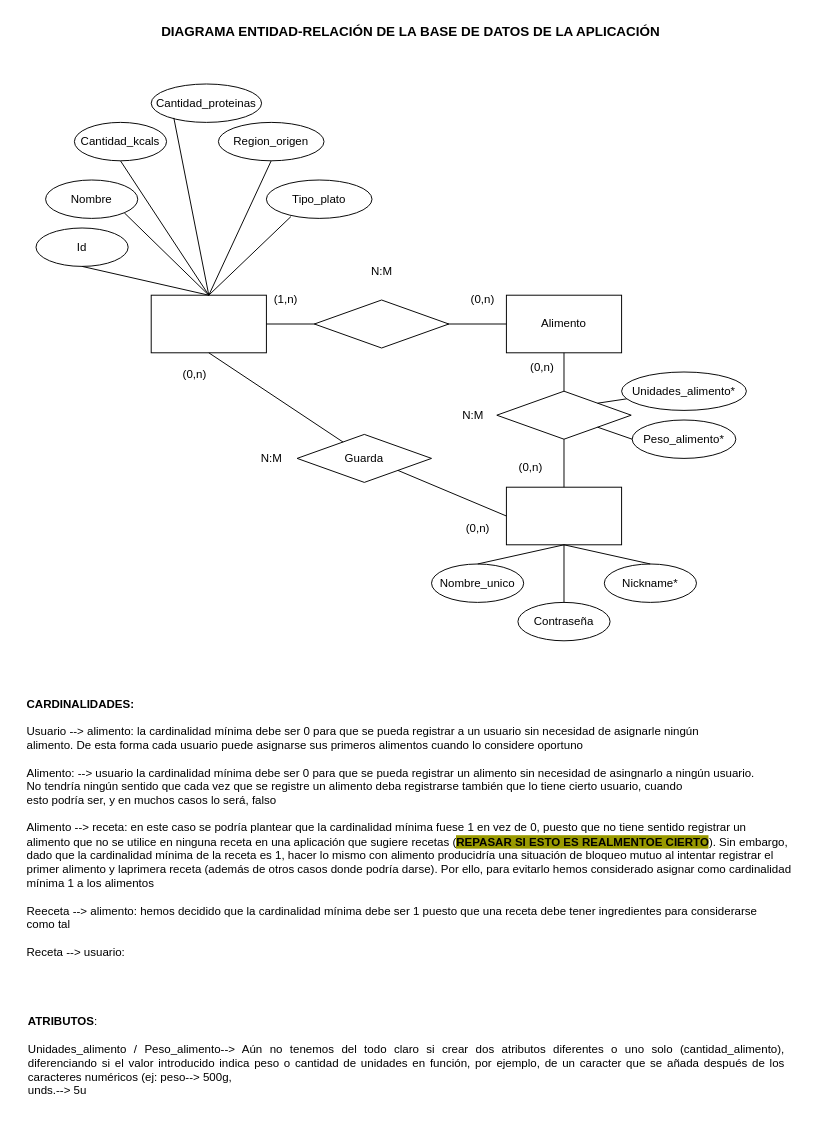
This 820x1128 diagram has some shape labels left out. The centre of each missing label's shape, as x and y in pixels:
Contiene: the point at 381,323
Persona: the point at 563,515
Receta: the point at 208,323
Tiene: the point at 563,414
